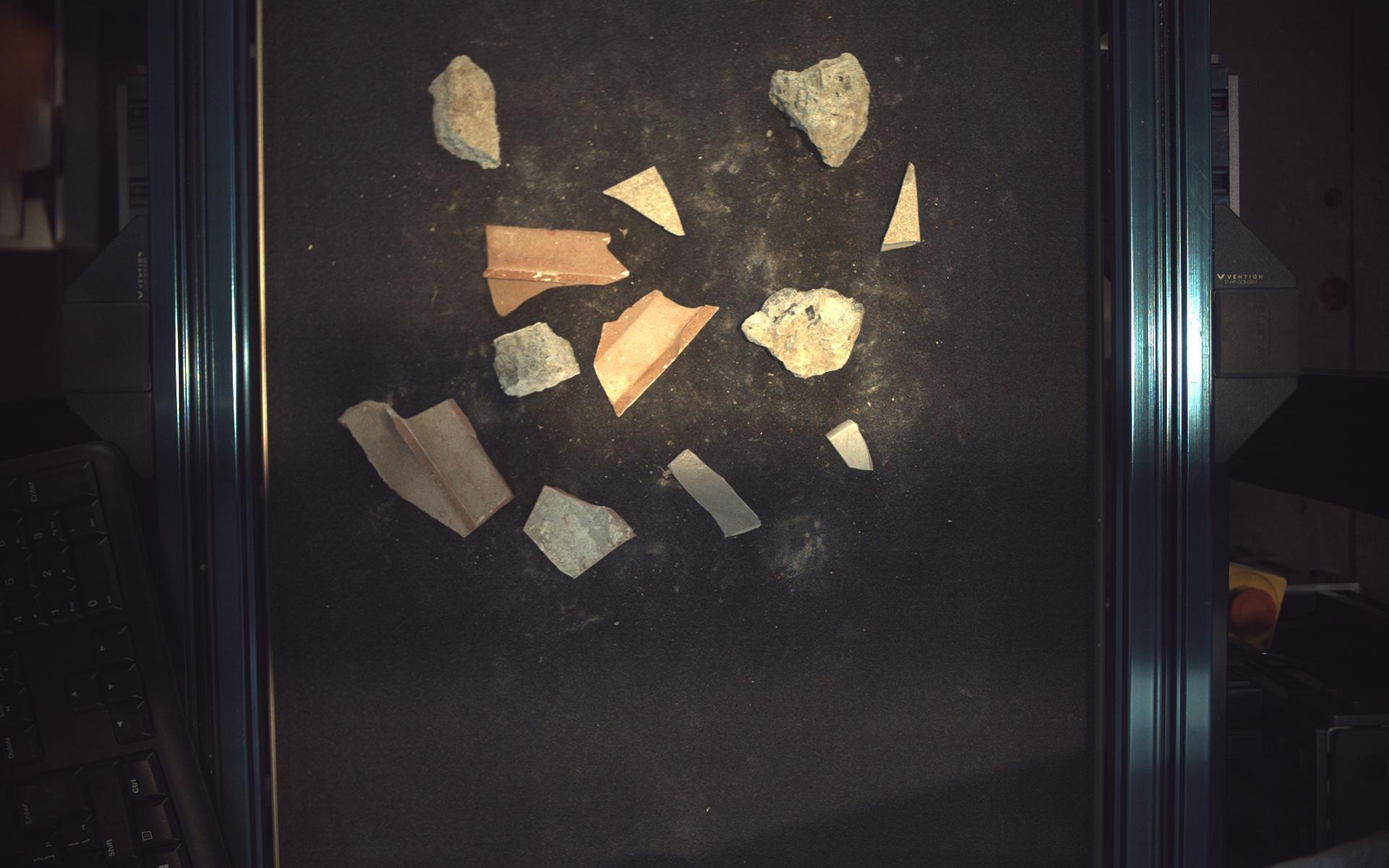brick: (339, 399, 514, 538), (595, 289, 720, 416), (484, 226, 629, 316), (524, 486, 636, 579)
concrete: (770, 51, 872, 166), (742, 288, 865, 378), (428, 54, 501, 168), (494, 322, 581, 396)
tile: (669, 450, 761, 537), (603, 165, 685, 235), (883, 162, 922, 250), (828, 421, 874, 471)
